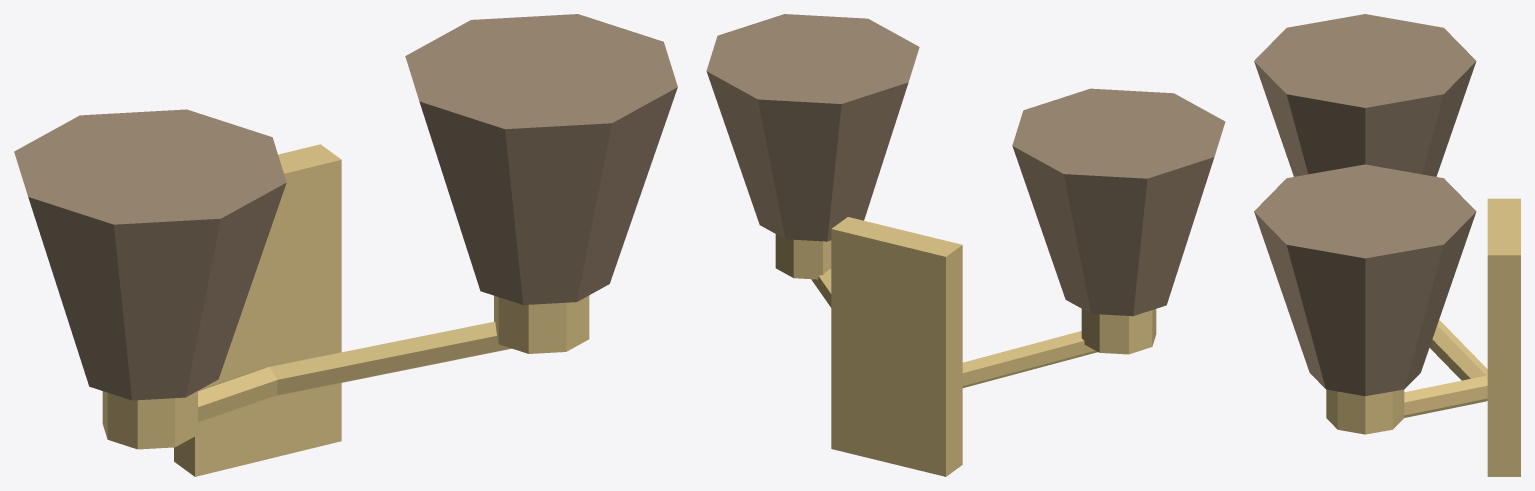
File: HJ_Aplique.fbx
3 renders of one model, left to right at view 1: azimuth 30°, elevation 25°; view 2: azimuth 150°, elevation 25°; view 3: azimuth 270°, elevation 25°, orthographic. The views are drawn at different scales.
Visible parts, largest first — view 1: HJ_Aplique; view 2: HJ_Aplique; view 3: HJ_Aplique.
Part boxes in pixels (x1,y1,x2,y2): HJ_Aplique: (14,14,677,476); HJ_Aplique: (706,14,1225,476); HJ_Aplique: (1254,14,1520,476).
Size of the model in its own units: 0.52 by 0.31 by 0.24.
